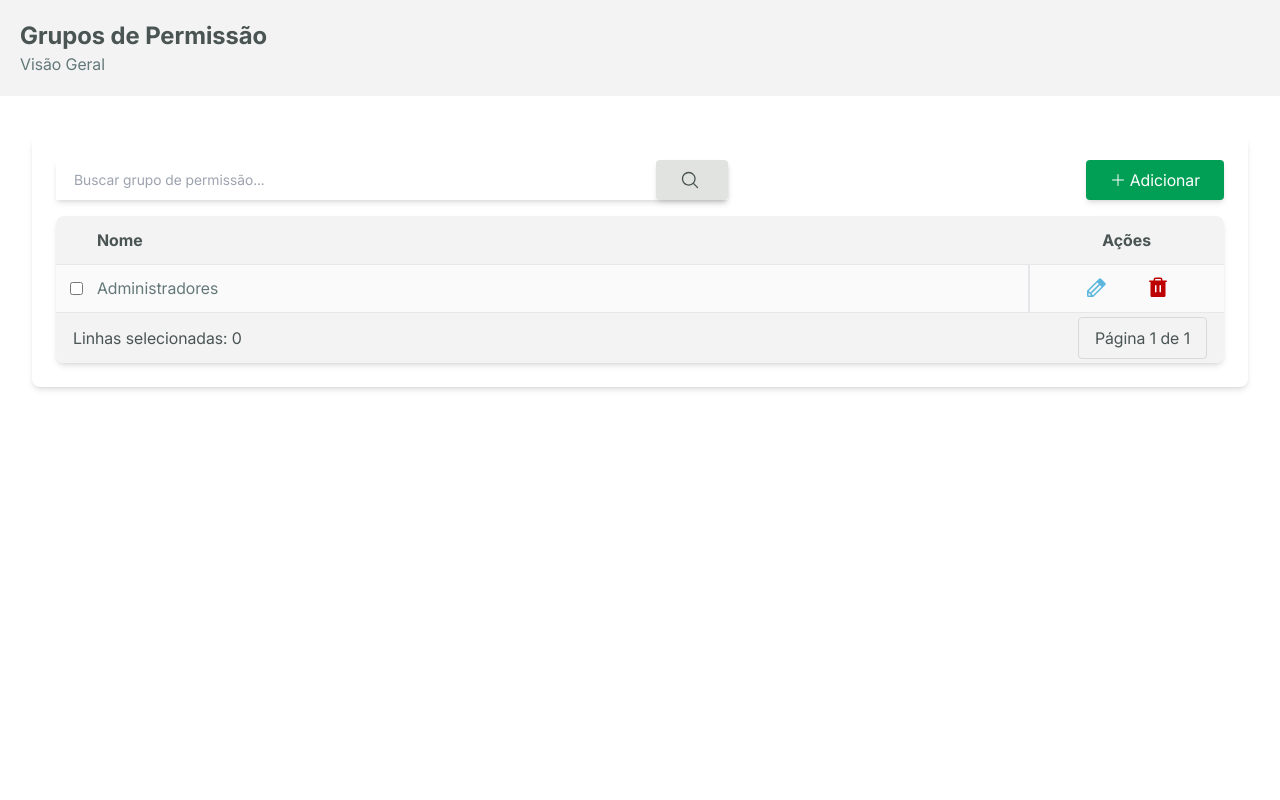
Test: PermissionGroupOverview › deletes a listed permission group after confirmation
Expected: the text "Administradores" is shown, x1=96 y1=264 x2=1029 y2=312
Click the button titled "Excluir": (1158, 288) x1=1146 y1=276 x2=1170 y2=300
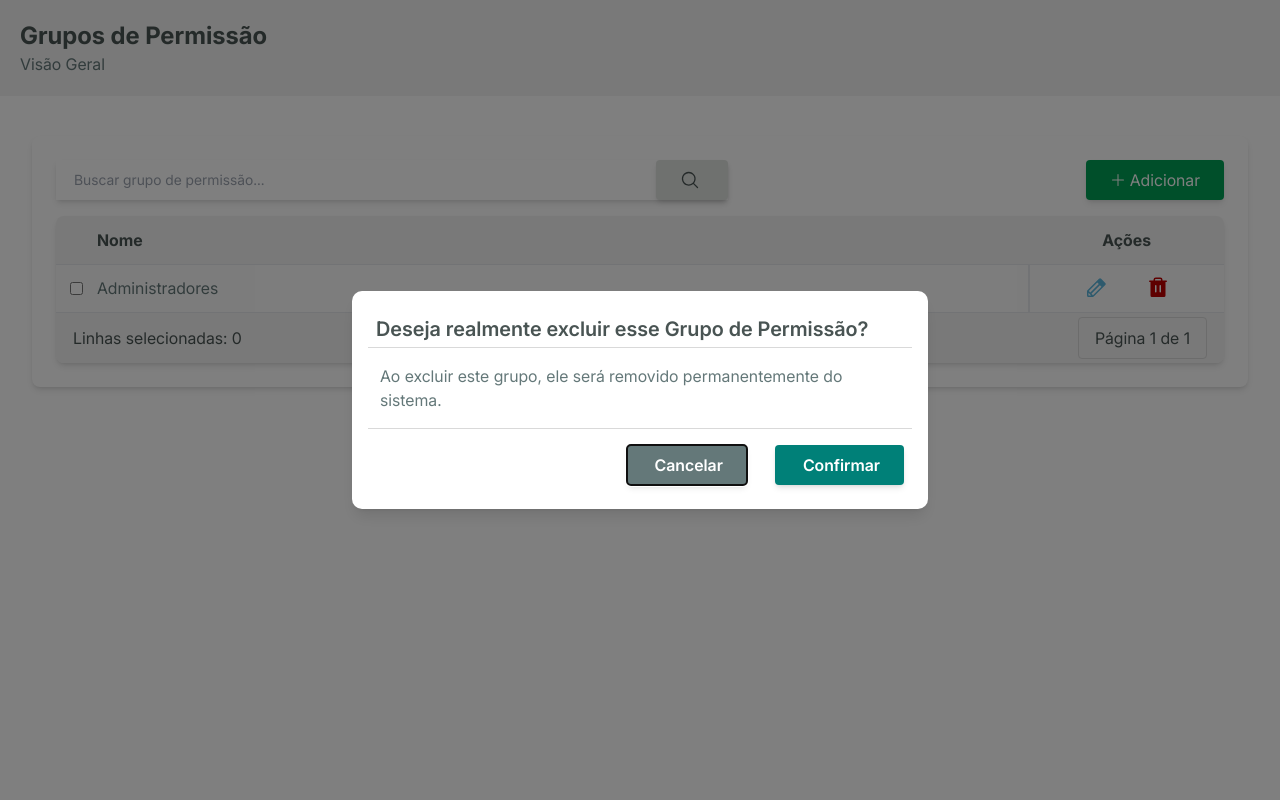
Click the button "Confirmar": (839, 465) x1=775 y1=445 x2=904 y2=485
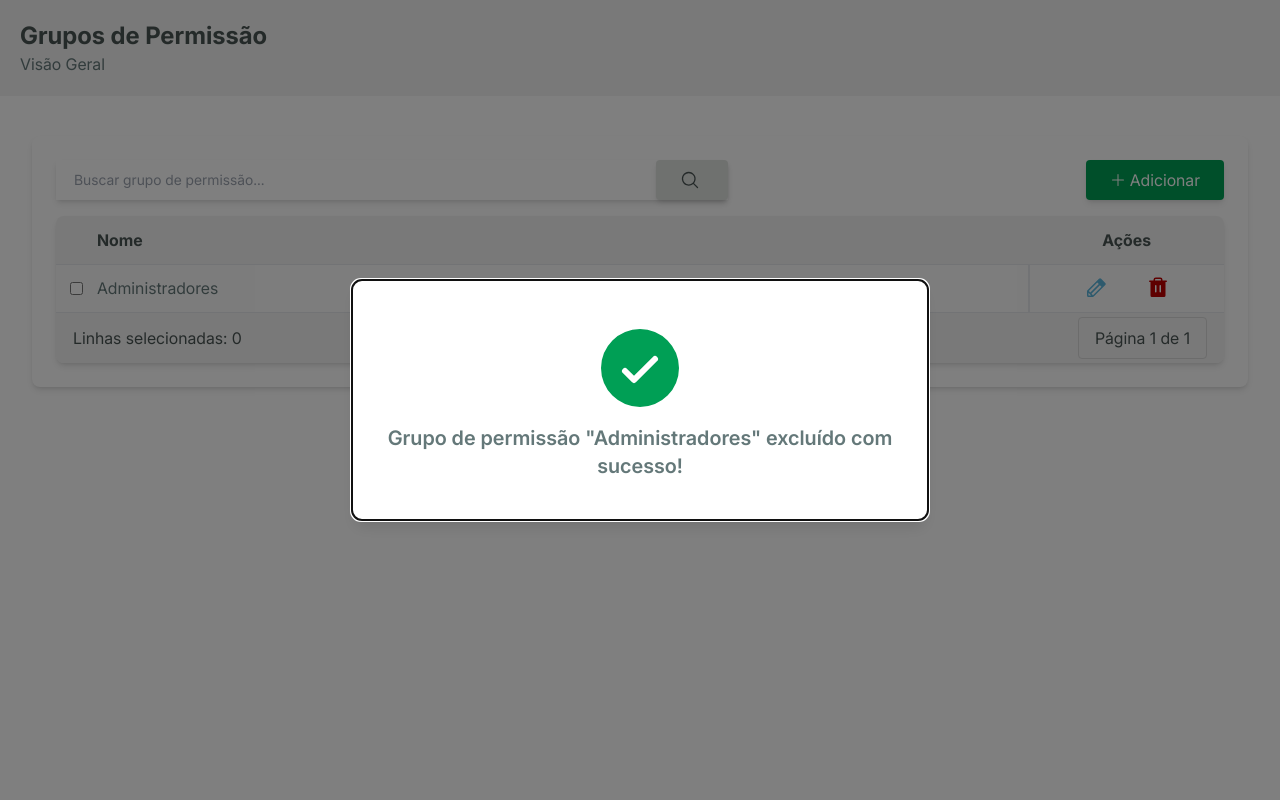
Expected: the text "Grupo de permissão \"Administradores\" excluído com sucesso!" is shown, x1=380 y1=424 x2=900 y2=480
